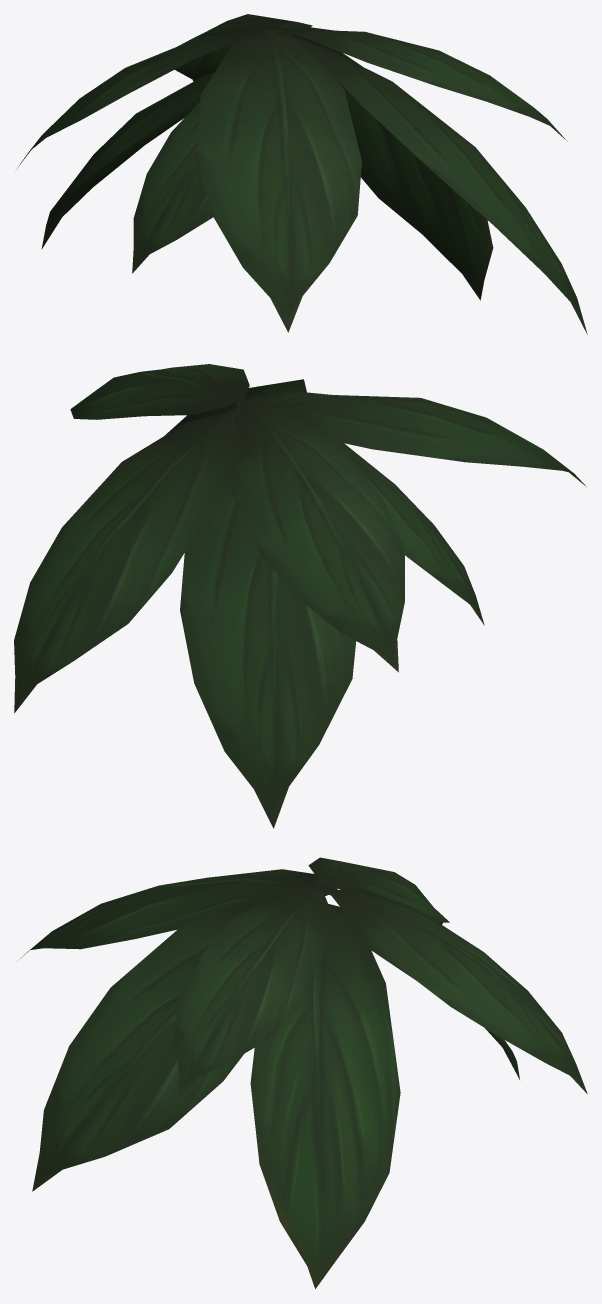
File: Palm_Fronds_06.fbx
3 views of the same model, one above another, from view 1: azimuth 30°, elevation 25°; view 2: azimuth 150°, elevation 25°; view 3: azimuth 270°, elevation 25° (orthographic). The views are drawn at different scales.
Visible parts, largest first — view 1: Palm_Fronds_06; view 2: Palm_Fronds_06; view 3: Palm_Fronds_06.
Boxes of the visible parts, box(x1,y1,x2,y2) form: Palm_Fronds_06: box(16, 14, 587, 334); Palm_Fronds_06: box(14, 364, 586, 828); Palm_Fronds_06: box(17, 857, 587, 1288).
Bounding box in the file's own units: 4.78 × 3.53 × 5.9.
Materials: 1 (1 with a texture image).
